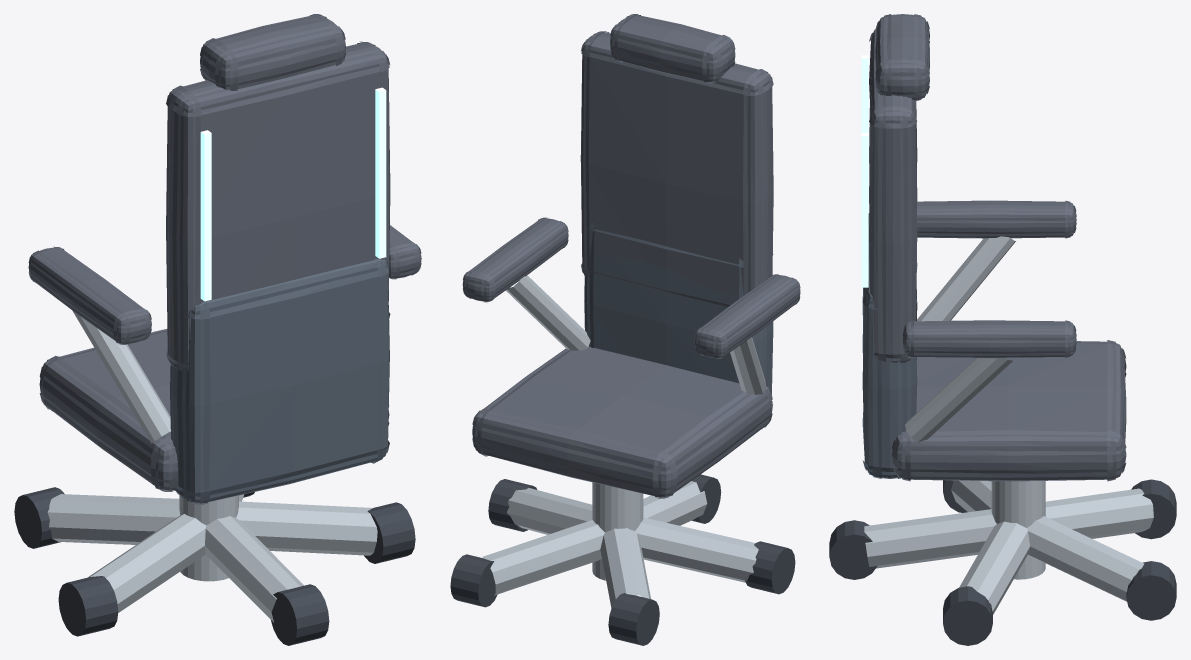
Rendered from 34_PS_ErgonomicExecutiveChair.glb.
The picture shows the model from 3 angles, left to right: view 1: azimuth 30°, elevation 25°; view 2: azimuth 150°, elevation 25°; view 3: azimuth 270°, elevation 25°; orthographic projection. The views are drawn at different scales.
Parts seen in each view (by area): view 1: PS_ErgonomicExecutiveChair; view 2: PS_ErgonomicExecutiveChair; view 3: PS_ErgonomicExecutiveChair.
Boxes of the visible parts, <box> form: PS_ErgonomicExecutiveChair: <box>14,14,421,645</box>; PS_ErgonomicExecutiveChair: <box>450,14,800,645</box>; PS_ErgonomicExecutiveChair: <box>829,14,1176,645</box>.
Size of the model in its own units: 1.08 by 1.84 by 1.08.
